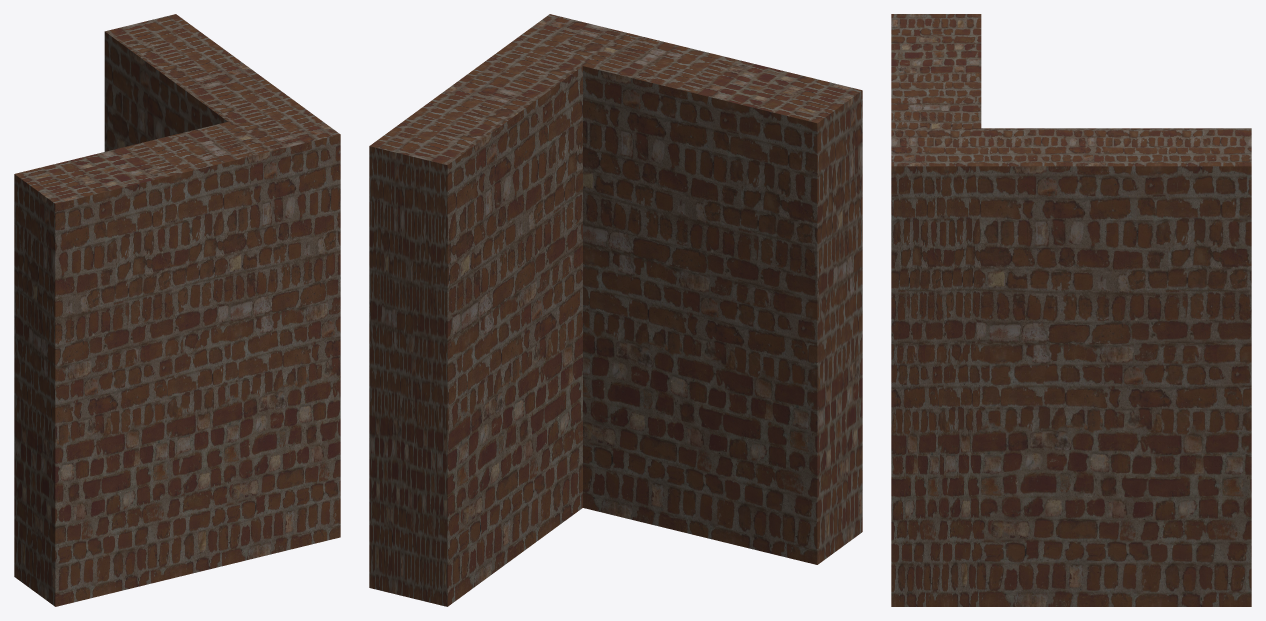
File: wall_corner_001.glb
3 renders of one model, left to right at view 1: azimuth 30°, elevation 25°; view 2: azimuth 150°, elevation 25°; view 3: azimuth 270°, elevation 25°, orthographic. The views are drawn at different scales.
Parts seen in each view (by area): view 1: Wall_Corner_001-col; view 2: Wall_Corner_001-col; view 3: Wall_Corner_001-col.
Boxes of the visible parts, left/top/right/bottom form: Wall_Corner_001-col: left=14, top=14, right=340, bottom=606; Wall_Corner_001-col: left=369, top=14, right=862, bottom=606; Wall_Corner_001-col: left=891, top=14, right=1251, bottom=606.
Bounding box in the file's own units: 2 × 2.7 × 2.
1 material, 1 textured.
